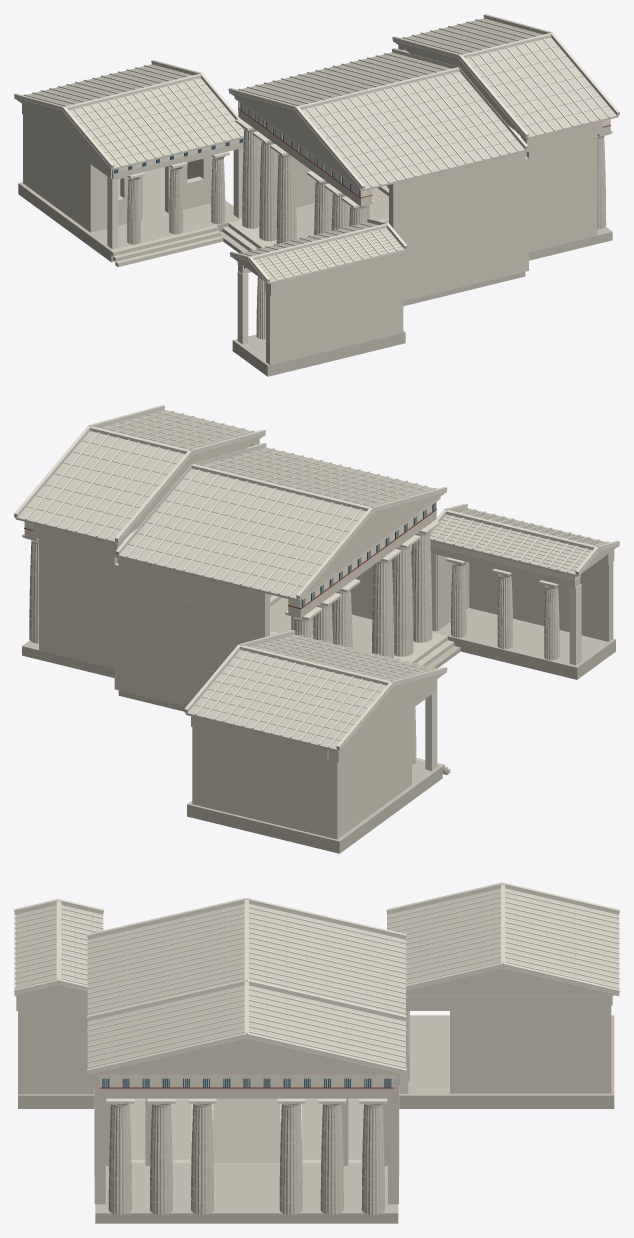
File: propylaia-v1.glb
3 renders of one model, top to bottom at view 1: azimuth 30°, elevation 25°; view 2: azimuth 150°, elevation 25°; view 3: azimuth 270°, elevation 25°, orthographic. The views are drawn at different scales.
Visible parts, largest first — view 1: 09_Roofs_reconstructed, 02_Central_walls_and_five_gates, 06_North_wing_Pinakotheke, 07_South_wing_open_porch, 03_West_Doric_hexastyle, 01_Platform_and_processional_route, 04_East_Doric_hexastyle; view 2: 09_Roofs_reconstructed, 02_Central_walls_and_five_gates, 06_North_wing_Pinakotheke, 07_South_wing_open_porch, 03_West_Doric_hexastyle, 01_Platform_and_processional_route, 04_East_Doric_hexastyle; view 3: 09_Roofs_reconstructed, 06_North_wing_Pinakotheke, 04_East_Doric_hexastyle, 01_Platform_and_processional_route, 07_South_wing_open_porch, 02_Central_walls_and_five_gates.
Part boxes in pixels (<box>): 09_Roofs_reconstructed: <box>14,14,619,284</box>; 02_Central_walls_and_five_gates: <box>278,45,602,301</box>; 06_North_wing_Pinakotheke: <box>18,104,243,266</box>; 07_South_wing_open_porch: <box>232,249,405,376</box>; 03_West_Doric_hexastyle: <box>234,97,374,244</box>; 01_Platform_and_processional_route: <box>220,185,612,306</box>; 04_East_Doric_hexastyle: <box>516,119,612,229</box>; 09_Roofs_reconstructed: <box>14,405,619,751</box>; 02_Central_walls_and_five_gates: <box>33,439,392,706</box>; 06_North_wing_Pinakotheke: <box>187,679,450,853</box>; 07_South_wing_open_porch: <box>430,508,615,679</box>; 03_West_Doric_hexastyle: <box>285,497,440,658</box>; 01_Platform_and_processional_route: <box>22,594,460,711</box>; 04_East_Doric_hexastyle: <box>22,522,129,643</box>; 09_Roofs_reconstructed: <box>14,882,619,1075</box>; 06_North_wing_Pinakotheke: <box>399,995,614,1108</box>; 04_East_Doric_hexastyle: <box>97,1074,396,1214</box>; 01_Platform_and_processional_route: <box>95,1098,398,1223</box>; 07_South_wing_open_porch: <box>14,915,94,1108</box>; 02_Central_walls_and_five_gates: <box>93,1074,400,1204</box>.
Size of the model in its own units: 32.86 by 15.02 by 37.59.
